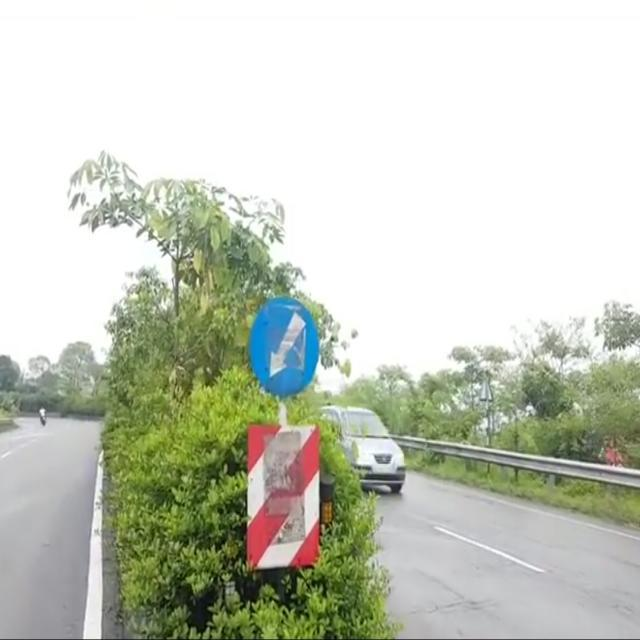compulsary keep left: (250, 289, 320, 393)
